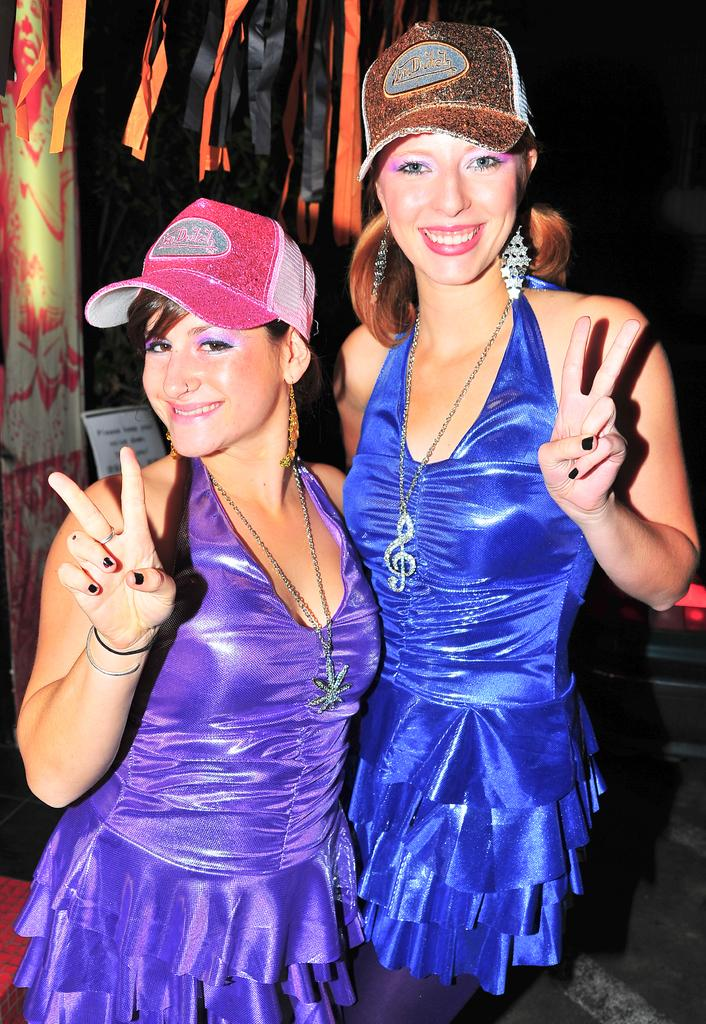Hat: (80, 194, 320, 344), (358, 24, 545, 180)
